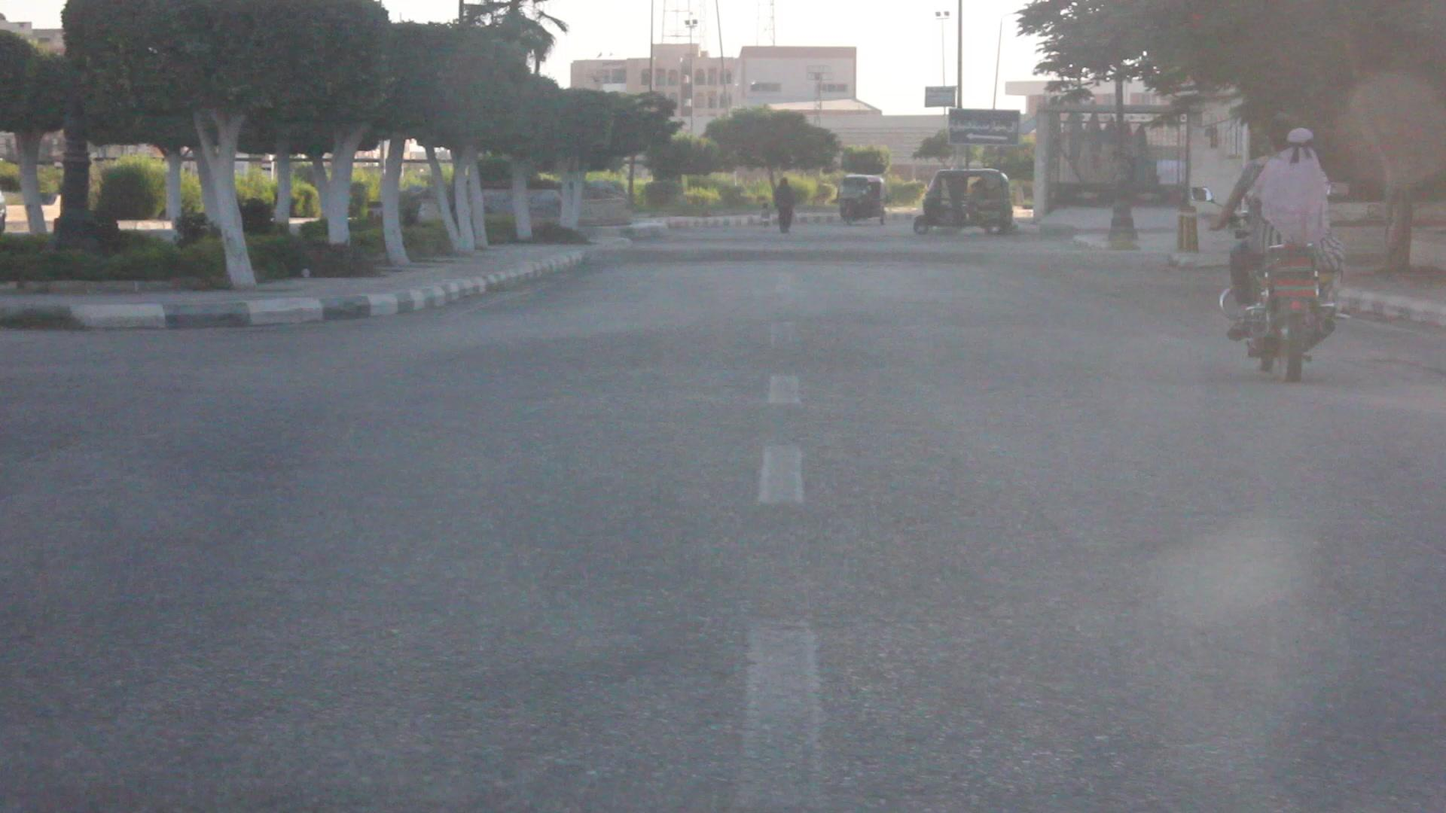Bump: (583, 245, 1184, 270)
